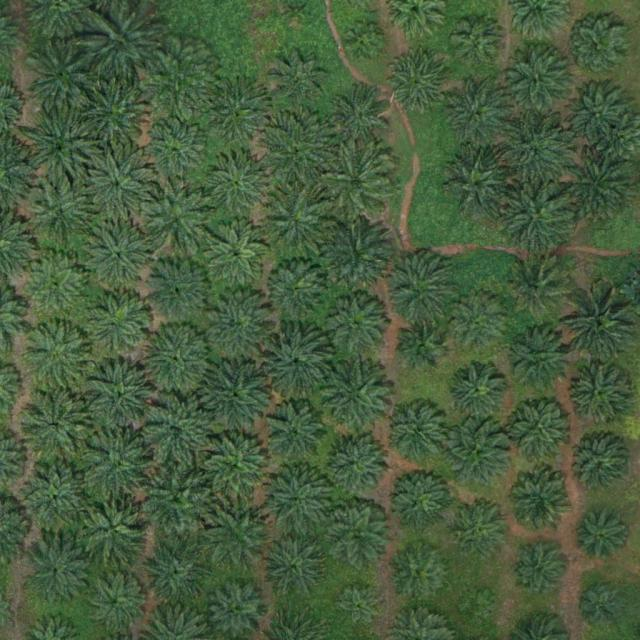Healthy: (144, 45, 215, 116), (89, 7, 160, 78), (141, 117, 212, 188), (206, 289, 277, 360), (441, 418, 512, 489), (264, 467, 335, 538), (566, 291, 636, 362), (24, 322, 94, 393), (19, 390, 89, 461), (83, 222, 153, 293), (86, 362, 156, 433), (144, 184, 214, 255), (142, 255, 212, 326), (201, 75, 271, 146), (203, 147, 273, 218), (201, 358, 272, 428), (262, 117, 332, 188), (261, 185, 331, 256), (261, 322, 331, 393), (320, 147, 390, 218), (323, 218, 393, 289), (321, 290, 391, 361), (385, 256, 455, 327), (500, 118, 571, 188), (507, 327, 577, 398), (505, 394, 575, 465), (564, 157, 635, 227), (202, 434, 273, 504), (143, 465, 213, 536), (141, 535, 211, 606), (84, 433, 155, 503), (23, 540, 93, 611), (505, 49, 575, 119), (264, 47, 334, 117), (29, 43, 99, 113), (26, 115, 96, 185), (27, 179, 97, 249), (77, 79, 147, 149), (82, 153, 152, 223), (141, 327, 211, 397), (142, 397, 212, 467), (322, 363, 392, 433), (444, 150, 514, 220), (504, 183, 574, 253), (204, 503, 274, 573), (79, 495, 149, 565), (22, 465, 92, 535), (447, 86, 510, 149), (24, 254, 87, 317), (205, 221, 268, 284), (327, 88, 390, 151), (390, 542, 453, 605), (325, 433, 388, 496), (510, 259, 572, 322), (386, 51, 448, 114), (87, 292, 149, 355), (265, 257, 328, 319), (265, 403, 327, 466), (384, 402, 446, 465), (447, 292, 510, 354), (445, 362, 508, 424), (569, 363, 631, 426), (452, 499, 514, 562), (388, 468, 450, 531), (326, 503, 388, 566), (264, 534, 326, 597), (85, 570, 147, 633), (570, 434, 632, 496), (508, 471, 570, 533), (574, 21, 629, 76), (450, 17, 505, 72), (573, 511, 628, 566), (570, 88, 624, 143), (512, 544, 566, 599), (398, 320, 445, 368)
Small: (334, 586, 381, 633), (345, 22, 384, 62), (581, 586, 620, 625), (457, 588, 496, 627)
